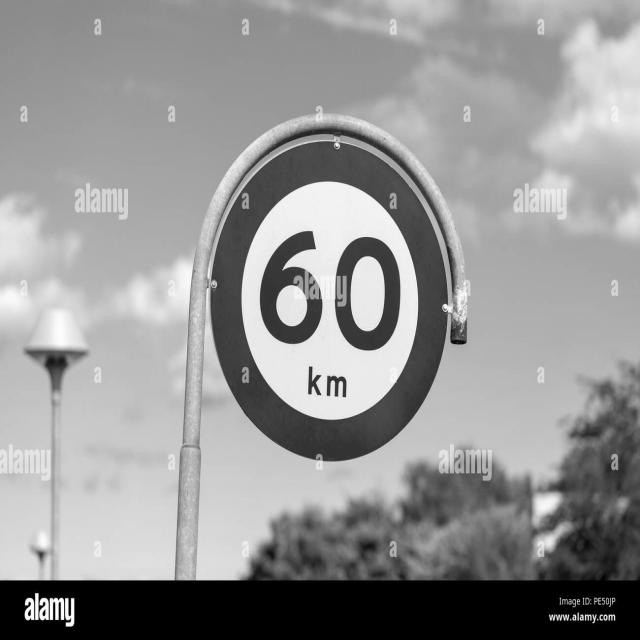speed_60: (209, 135, 448, 469)
